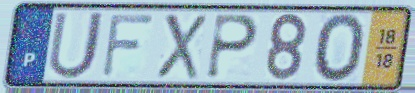8: (265, 12, 308, 84)
F: (99, 12, 157, 80)
O: (312, 11, 368, 85)
P: (203, 12, 261, 81)
U: (45, 9, 108, 82)
X: (154, 11, 209, 81)
